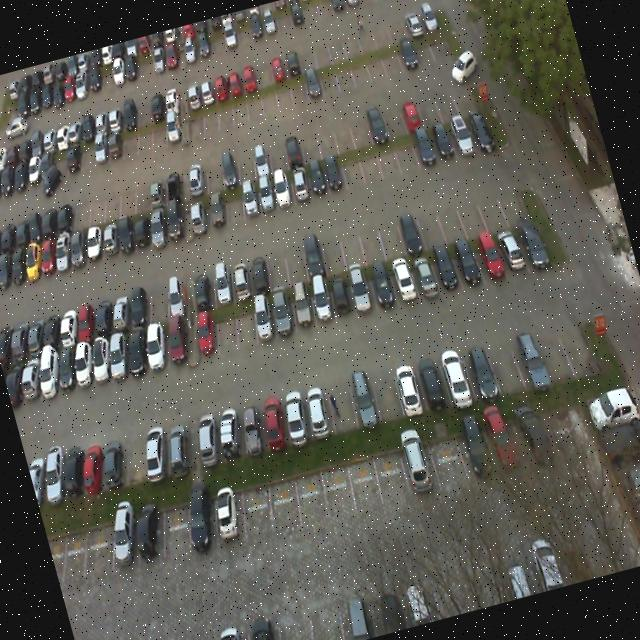empty: (151, 493, 201, 562), (72, 517, 122, 581), (260, 474, 308, 536), (552, 310, 598, 374), (342, 453, 386, 518), (288, 464, 334, 526), (233, 478, 280, 538), (530, 318, 572, 382), (50, 525, 97, 582), (484, 332, 525, 395), (317, 458, 358, 520), (204, 300, 245, 360), (321, 376, 360, 438), (115, 429, 156, 487), (368, 363, 404, 424), (223, 298, 260, 354), (452, 187, 490, 240), (412, 197, 447, 250), (496, 178, 530, 226), (374, 208, 406, 258), (434, 194, 466, 244), (476, 182, 508, 232), (140, 281, 176, 325), (258, 246, 292, 292), (352, 218, 386, 264), (316, 228, 346, 278), (279, 240, 310, 286), (336, 227, 365, 270), (221, 185, 248, 230), (374, 140, 402, 180), (340, 150, 366, 192), (356, 146, 383, 184), (392, 134, 418, 172)
occupied: (122, 503, 176, 570), (100, 511, 150, 575), (176, 489, 225, 554), (506, 326, 550, 392), (204, 484, 252, 544), (232, 396, 276, 458), (72, 437, 115, 498), (100, 327, 142, 386), (437, 348, 478, 408), (92, 435, 134, 493), (461, 341, 502, 400), (117, 319, 157, 379), (255, 392, 295, 450), (277, 390, 317, 448), (136, 321, 176, 378), (244, 288, 282, 348), (136, 423, 176, 480), (414, 354, 452, 413), (510, 216, 550, 271), (157, 422, 197, 477), (212, 403, 250, 460), (157, 314, 194, 372), (389, 357, 426, 415), (344, 371, 381, 427), (468, 231, 506, 285), (299, 384, 335, 441), (84, 332, 120, 388), (188, 308, 222, 367), (190, 412, 228, 464), (102, 288, 140, 336), (286, 284, 320, 336), (450, 240, 483, 292), (86, 295, 124, 340), (120, 285, 156, 332), (305, 280, 338, 331), (408, 252, 441, 303), (142, 202, 176, 251), (427, 246, 461, 295), (395, 204, 427, 256), (266, 290, 298, 342), (109, 212, 143, 260), (346, 269, 378, 320), (492, 230, 526, 278), (386, 256, 418, 306), (126, 208, 159, 256), (367, 263, 398, 314), (162, 276, 196, 322), (183, 192, 216, 238), (462, 108, 495, 154), (202, 264, 235, 310), (94, 216, 126, 262), (158, 201, 190, 247), (328, 274, 357, 324), (224, 256, 255, 300), (186, 271, 218, 313), (428, 120, 458, 164), (241, 254, 272, 296), (296, 238, 326, 281), (236, 178, 264, 224), (320, 154, 349, 197), (253, 176, 281, 220), (204, 189, 232, 232), (411, 130, 440, 170), (445, 118, 474, 158), (286, 167, 313, 208), (270, 172, 295, 212), (304, 160, 329, 198)
